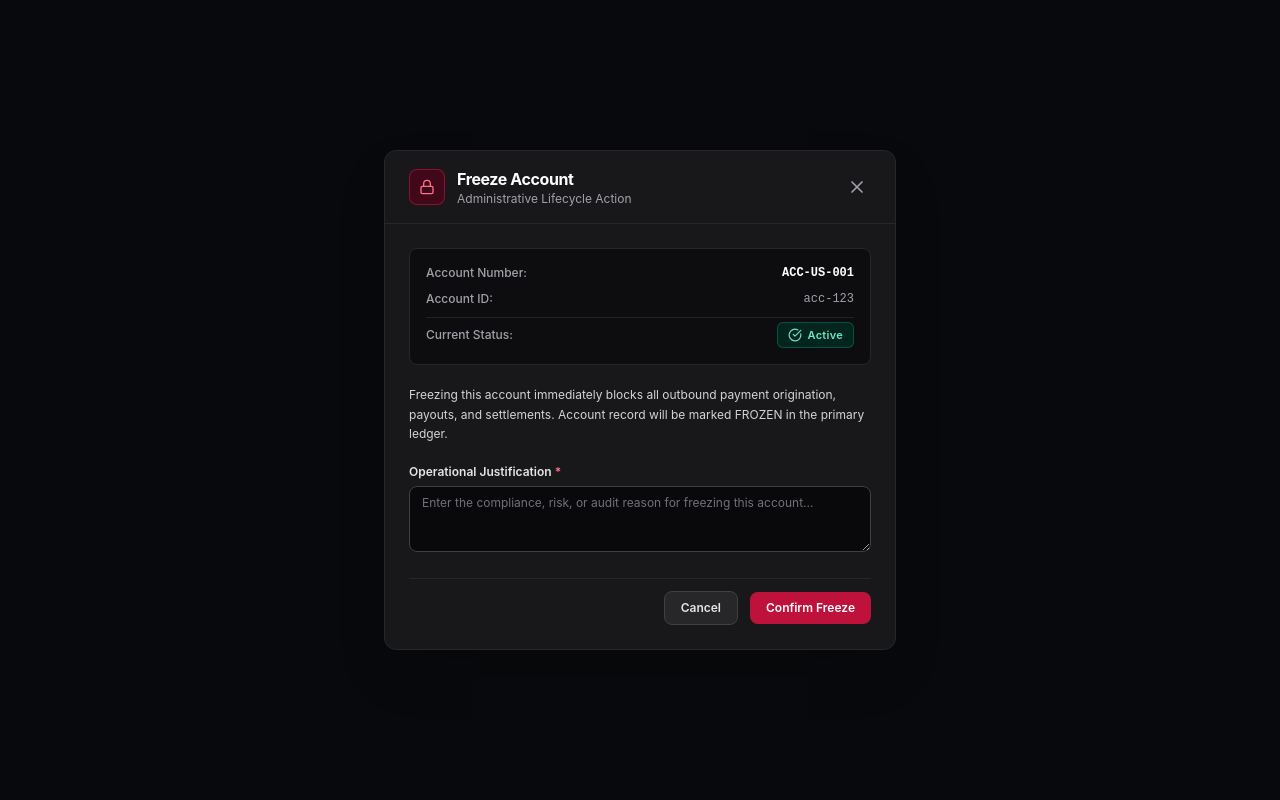
Test case: Admin Account Lifecycle Accessibility (Phase F7-G-E) › announces validation error via role='alert' and sets aria-invalid
Click the button with test id "confirm-lifecycle-button" at coordinates (810, 608), box [750,592,871,624]
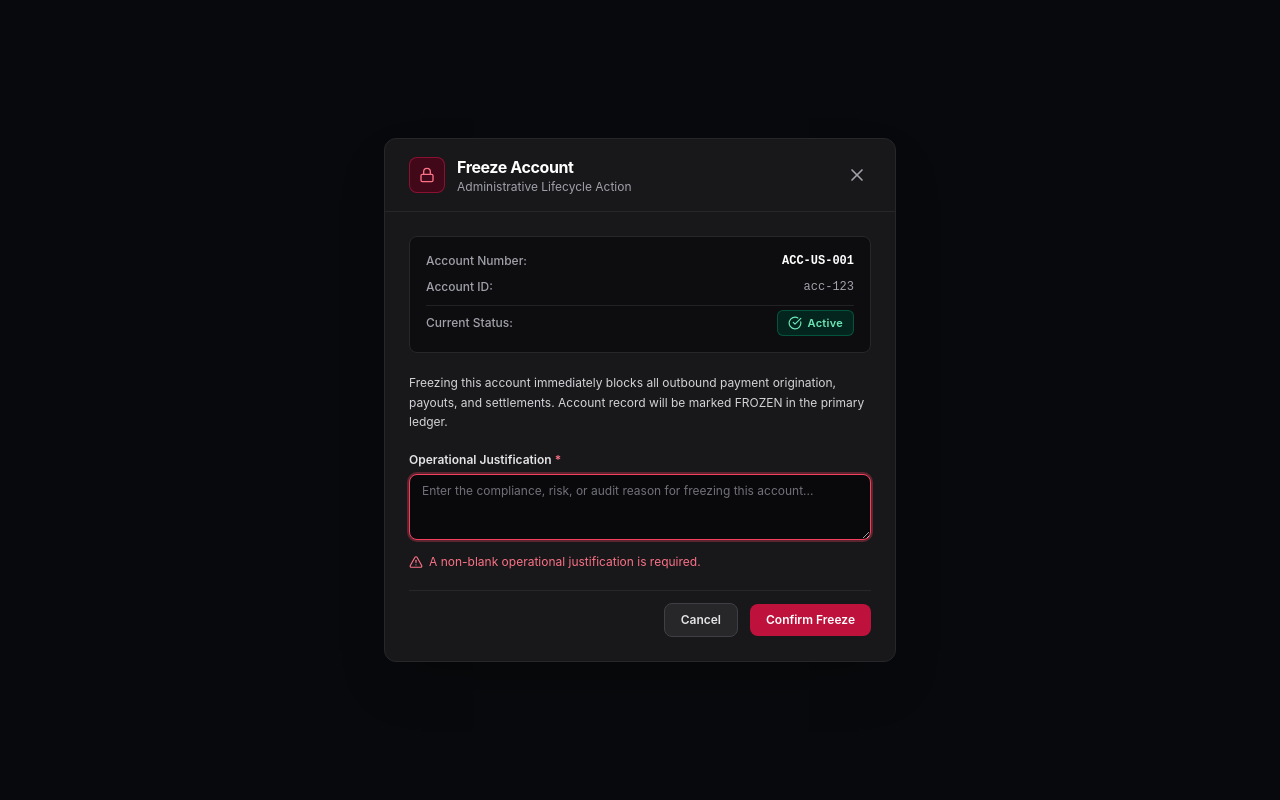
Now the message "A non-blank operational justification is required." is shown, box [409,554,701,569]
Now the message reads "A non-blank operational justification is required.", box [429,554,701,569]
